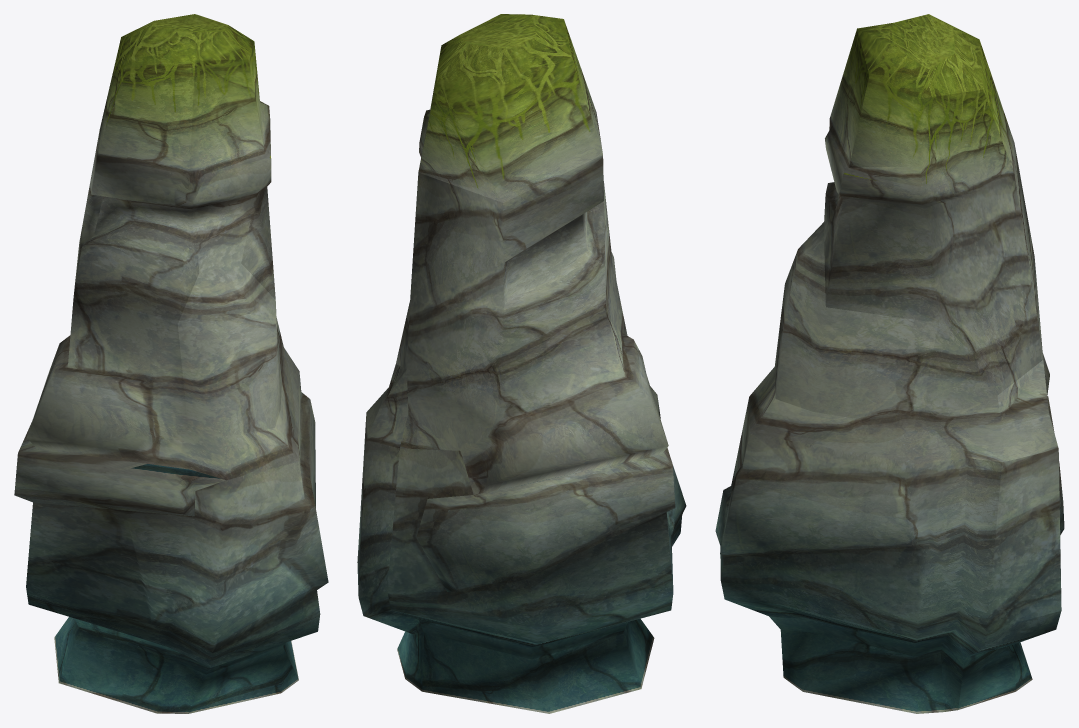
Rendered from water rock.FBX.
The picture shows the model from 3 angles, left to right: view 1: azimuth 30°, elevation 25°; view 2: azimuth 150°, elevation 25°; view 3: azimuth 270°, elevation 25°; orthographic projection.
Parts seen in each view (by area): view 1: water rock; view 2: water rock; view 3: water rock.
Boxes of the visible parts, x1=… form: water rock: x1=14, y1=14, x2=328, y2=713; water rock: x1=357, y1=14, x2=686, y2=713; water rock: x1=715, y1=14, x2=1064, y2=713.
Size of the model in its own units: 7.34 by 15.11 by 7.49.
